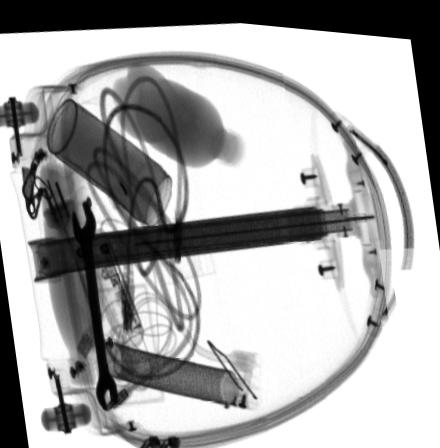Wrench: (72, 198, 118, 409)
